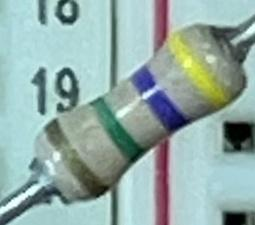Blue: (129, 64, 192, 135)
Green: (86, 97, 145, 166)
Side-Silver: (39, 117, 112, 203)
Yellow: (165, 32, 233, 111)
